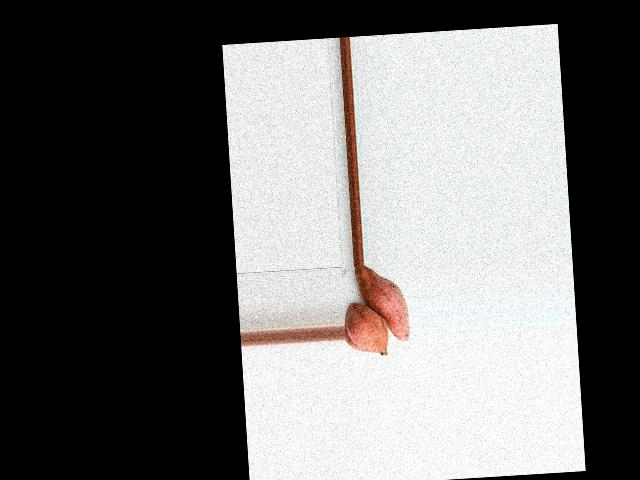sweet_potato: (348, 304, 385, 358)
